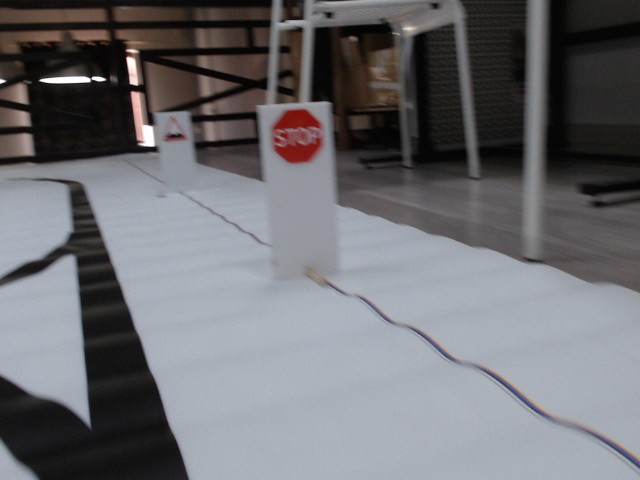Nerov: (163, 117, 186, 143)
Stop: (270, 108, 325, 162)
